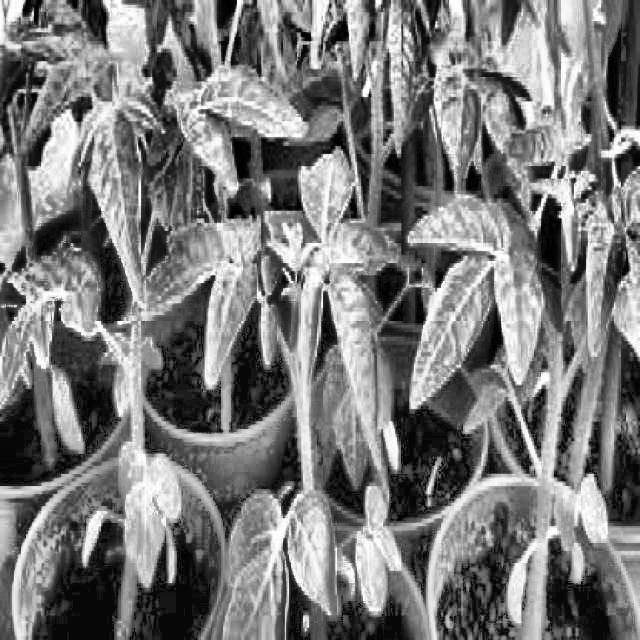plants: (403, 80, 637, 636), (13, 126, 222, 636), (293, 80, 502, 522), (0, 12, 126, 518), (120, 116, 294, 478), (222, 396, 433, 636), (40, 162, 171, 352)
